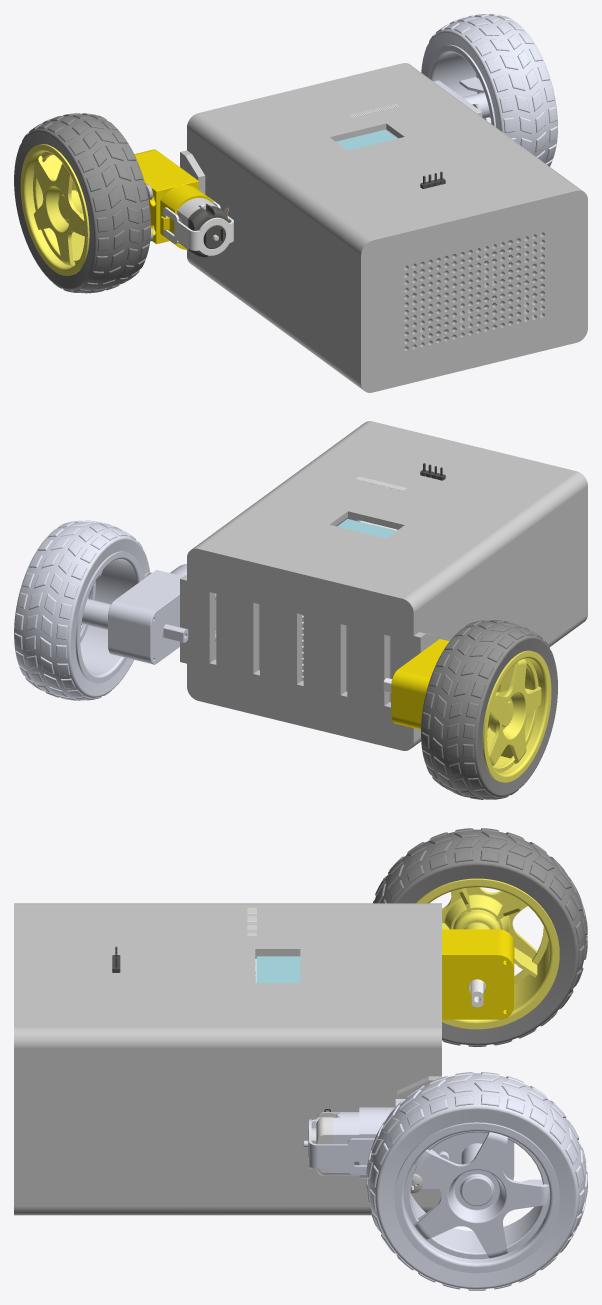
The model's file is Self-Balancing-Robot-Backup.glb.
The picture shows the model from 3 angles, top to bottom: view 1: azimuth 30°, elevation 25°; view 2: azimuth 150°, elevation 25°; view 3: azimuth 270°, elevation 25°; orthographic projection. The views are drawn at different scales.
Visible parts, largest first — view 1: Body1.039, Body30.004, Body31.003, Imported1, Imported1.001, Imported2, Nody^Mini Gear DC Motor 6 V Yellow.STEP-1-solid1, Imported2.001, dc motor.stp.STEP-1-solid1, Belt^Mini Gear DC Motor 6 V Yellow.STEP-1-solid1, Body3.006, Body1.003 (+1 smaller); view 2: Body3.006, Body30.004, Body31.003, Imported1, Imported1.001, Imported2, Nody^Mini Gear DC Motor 6 V Yellow.STEP-1-solid1.001, Imported2.001, Nody^Mini Gear DC Motor 6 V Yellow.STEP-1-solid1, Body1.039, Body1.003, Body9.004 (+1 smaller); view 3: Body30.004, Body31.003, Imported1.001, Imported2.001, Imported1, Imported2, Nody^Mini Gear DC Motor 6 V Yellow.STEP-1-solid1, Nody^Mini Gear DC Motor 6 V Yellow.STEP-1-solid1.001, Body3.006, Body1.039, dc motor.stp.STEP-1-solid1.001, Belt^Mini Gear DC Motor 6 V Yellow.STEP-1-solid1.001 (+1 smaller).
Part boxes in pixels (left/top/right/bottom): Body1.039: left=358, top=188, right=587, bottom=392; Body30.004: left=272, top=125, right=579, bottom=387; Body31.003: left=192, top=67, right=494, bottom=325; Imported1: left=14, top=113, right=150, bottom=293; Imported1.001: left=421, top=14, right=557, bottom=166; Imported2: left=20, top=144, right=89, bottom=275; Nody^Mini Gear DC Motor 6 V Yellow.STEP-1-solid1: left=134, top=149, right=213, bottom=249; Imported2.001: left=428, top=44, right=495, bottom=126; dc motor.stp.STEP-1-solid1: left=177, top=198, right=230, bottom=257; Belt^Mini Gear DC Motor 6 V Yellow.STEP-1-solid1: left=163, top=197, right=233, bottom=255; Body3.006: left=187, top=63, right=413, bottom=266; Body1.003: left=336, top=130, right=396, bottom=150; Body3.006: left=187, top=544, right=418, bottom=750; Body30.004: left=277, top=423, right=585, bottom=646; Body31.003: left=197, top=486, right=499, bottom=743; Imported1: left=421, top=620, right=557, bottom=799; Imported1.001: left=14, top=520, right=149, bottom=700; Imported2: left=482, top=650, right=551, bottom=782; Nody^Mini Gear DC Motor 6 V Yellow.STEP-1-solid1.001: left=108, top=564, right=186, bottom=664; Imported2.001: left=75, top=551, right=143, bottom=683; Nody^Mini Gear DC Motor 6 V Yellow.STEP-1-solid1: left=391, top=639, right=450, bottom=729; Body1.039: left=364, top=421, right=587, bottom=622; Body1.003: left=337, top=519, right=396, bottom=538; Body9.004: left=180, top=575, right=186, bottom=663; Body30.004: left=20, top=903, right=231, bottom=1215; Body31.003: left=231, top=903, right=428, bottom=1215; Imported1.001: left=366, top=1072, right=587, bottom=1290; Imported2.001: left=394, top=1122, right=559, bottom=1273; Imported1: left=373, top=828, right=587, bottom=1046; Imported2: left=416, top=878, right=559, bottom=1029; Nody^Mini Gear DC Motor 6 V Yellow.STEP-1-solid1: left=442, top=929, right=514, bottom=1019; Nody^Mini Gear DC Motor 6 V Yellow.STEP-1-solid1.001: left=359, top=1099, right=514, bottom=1189; Body3.006: left=429, top=903, right=441, bottom=1210; Body1.039: left=14, top=903, right=20, bottom=1215; dc motor.stp.STEP-1-solid1.001: left=303, top=1109, right=359, bottom=1175; Belt^Mini Gear DC Motor 6 V Yellow.STEP-1-solid1.001: left=309, top=1119, right=374, bottom=1174.
Size of the model in its own units: 0.2043 by 0.0833 by 0.1784.
